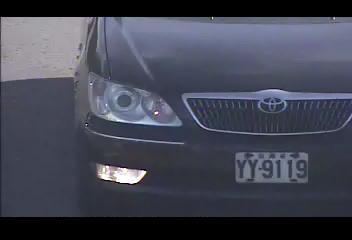plate: (234, 150, 309, 186)
